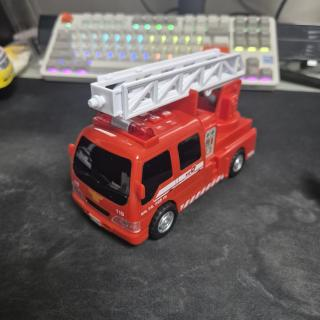Fire_truck: (68, 55, 257, 244)
